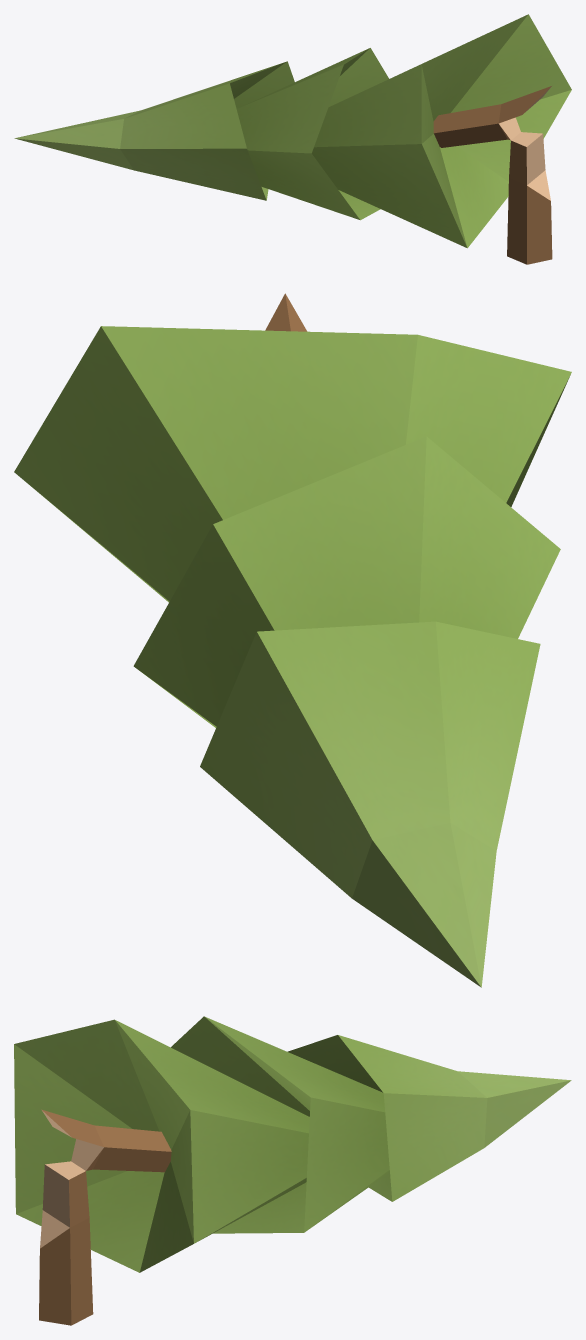
Rendered from Pine_Tree_crk_s_BT_01.fbx.
The picture shows the model from 3 angles, top to bottom: view 1: azimuth 30°, elevation 25°; view 2: azimuth 150°, elevation 25°; view 3: azimuth 270°, elevation 25°; orthographic projection. The views are drawn at different scales.
Visible parts, largest first — view 1: Pine_Tree_crk_s_BT_01; view 2: Pine_Tree_crk_s_BT_01; view 3: Pine_Tree_crk_s_BT_01.
Boxes of the visible parts, x1,y1,x2,y2 form: Pine_Tree_crk_s_BT_01: (14,14,571,264); Pine_Tree_crk_s_BT_01: (14,293,571,987); Pine_Tree_crk_s_BT_01: (14,1016,571,1325).
Bounding box in the file's own units: 207 × 96.44 × 202.
